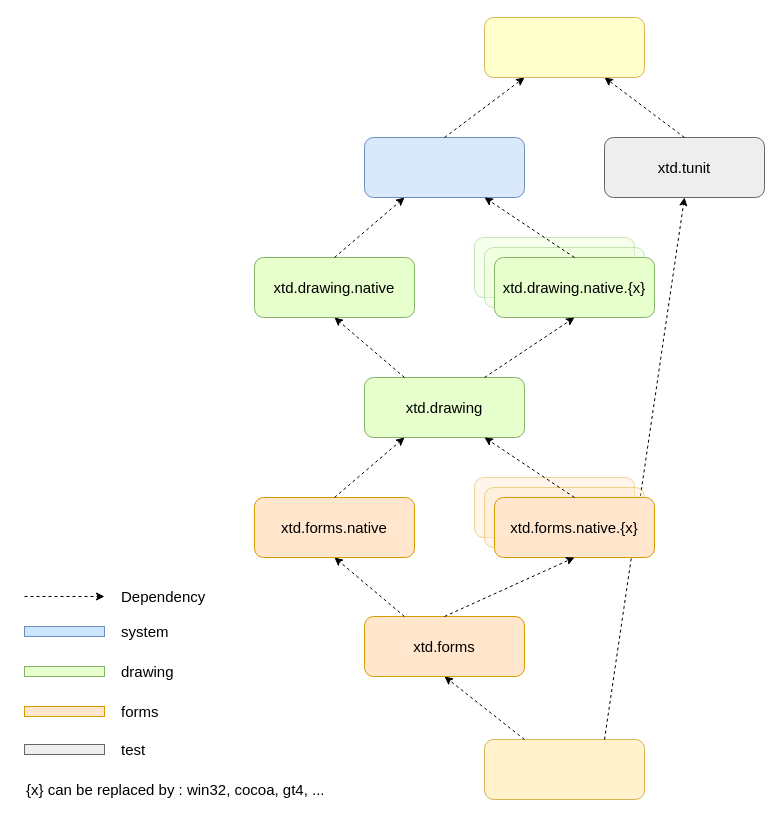
This 782x817 diagram has some shape labels left out. Each missing label, with the centre of its shape:
std: pixel 564 47
xtd: pixel 564 769
xtd.core: pixel 444 167
